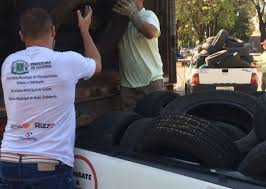tire: (164, 90, 264, 152), (146, 117, 230, 168)
